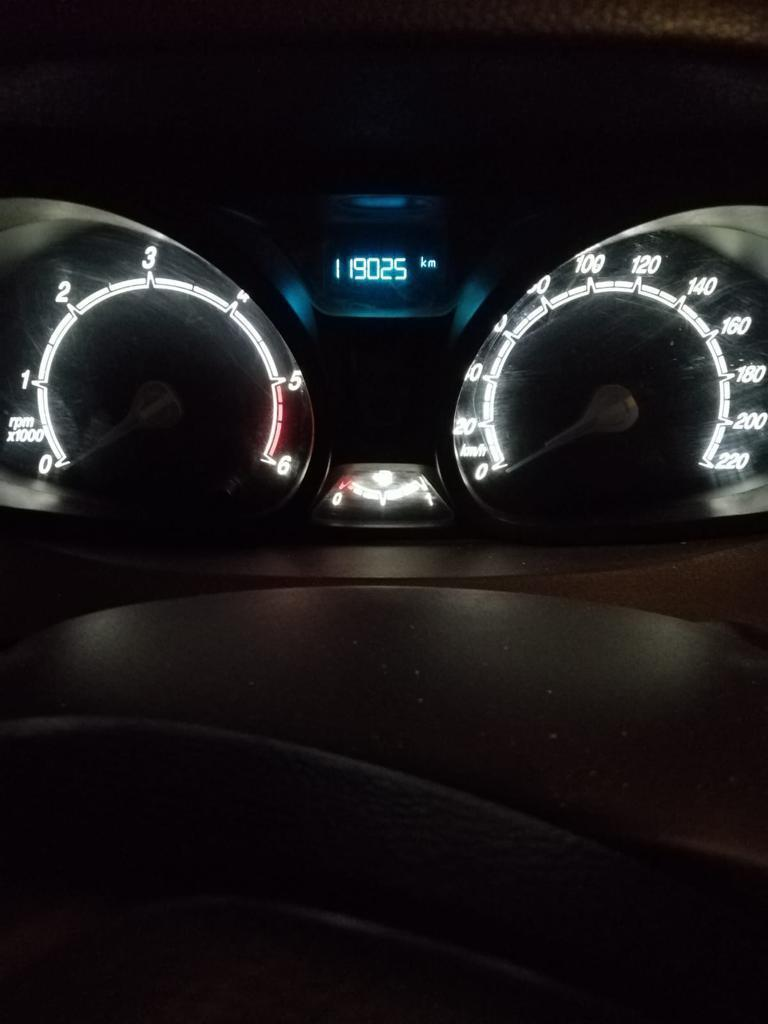0: (367, 256, 379, 280)
1: (334, 256, 342, 280), (347, 257, 353, 279)
2: (380, 256, 393, 281)
5: (393, 256, 409, 281)
9: (354, 256, 366, 281)
X: (427, 258, 437, 268), (420, 255, 427, 267)
odometer: (321, 233, 447, 303)
